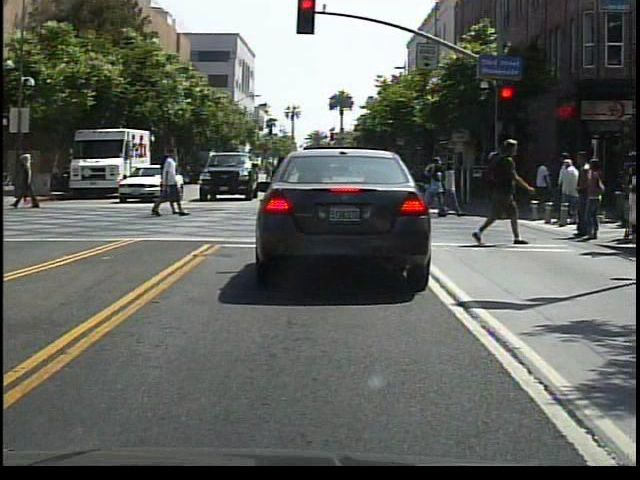person: (474, 131, 529, 251), (150, 150, 187, 226), (553, 154, 581, 228), (257, 155, 290, 214), (14, 149, 42, 215)
